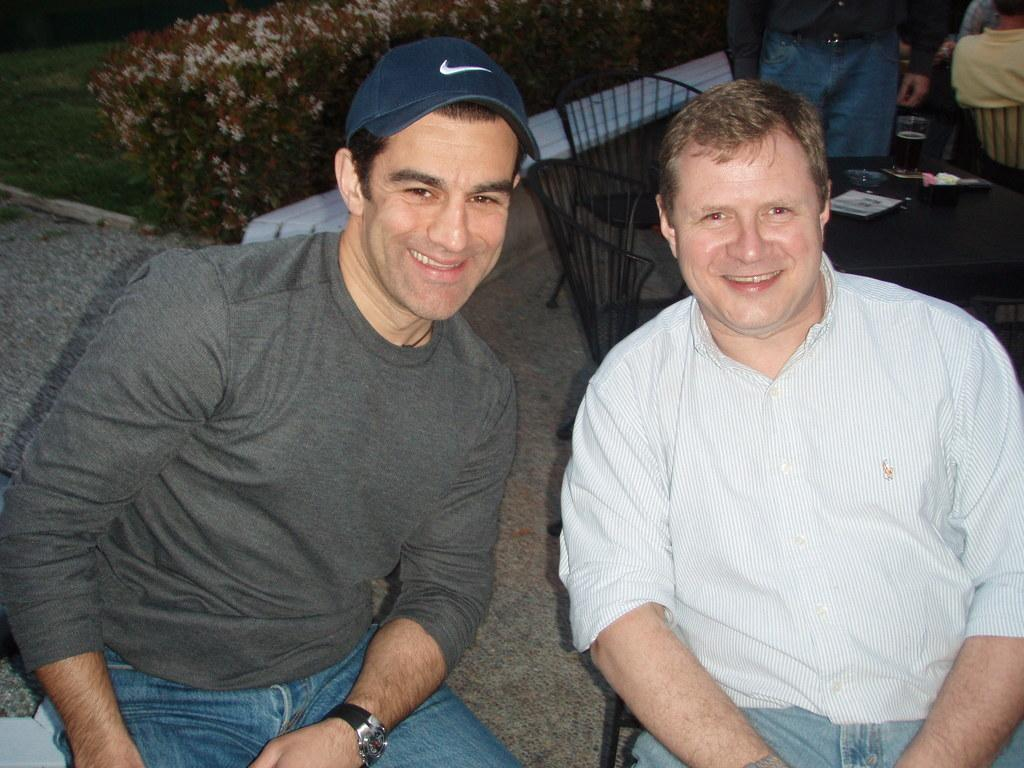Hat: (339, 36, 541, 188)
